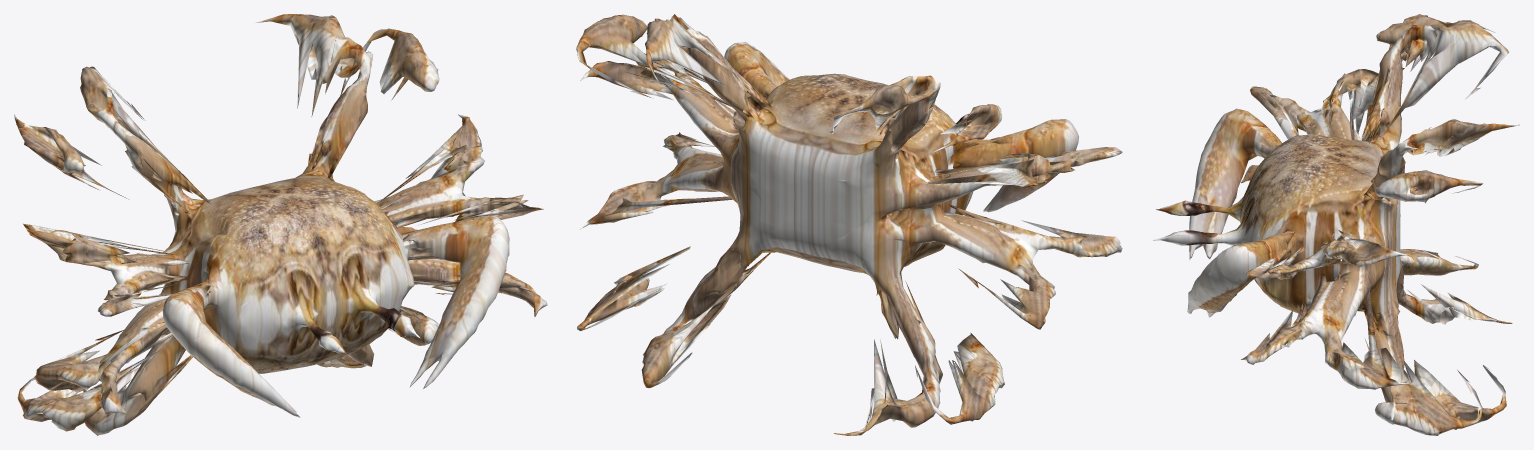
Rendered from fish_ghostcrab.glb.
The picture shows the model from 3 angles, left to right: view 1: azimuth 30°, elevation 25°; view 2: azimuth 150°, elevation 25°; view 3: azimuth 270°, elevation 25°; orthographic projection. The views are drawn at different scales.
Parts seen in each view (by area): view 1: orient; view 2: orient; view 3: orient.
Part boxes in pixels (box(x1,y1,x2,y2)): orient: box(14, 14, 547, 435); orient: box(576, 14, 1122, 435); orient: box(1153, 14, 1519, 435).
Size of the model in its own units: 2.02 by 1.51 by 1.63.
Materials: 1 (1 with a texture image).
